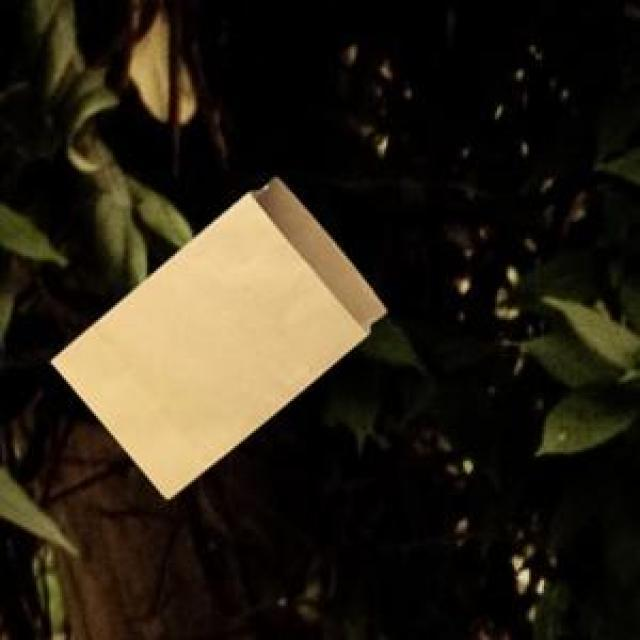paper: (47, 173, 382, 495)
